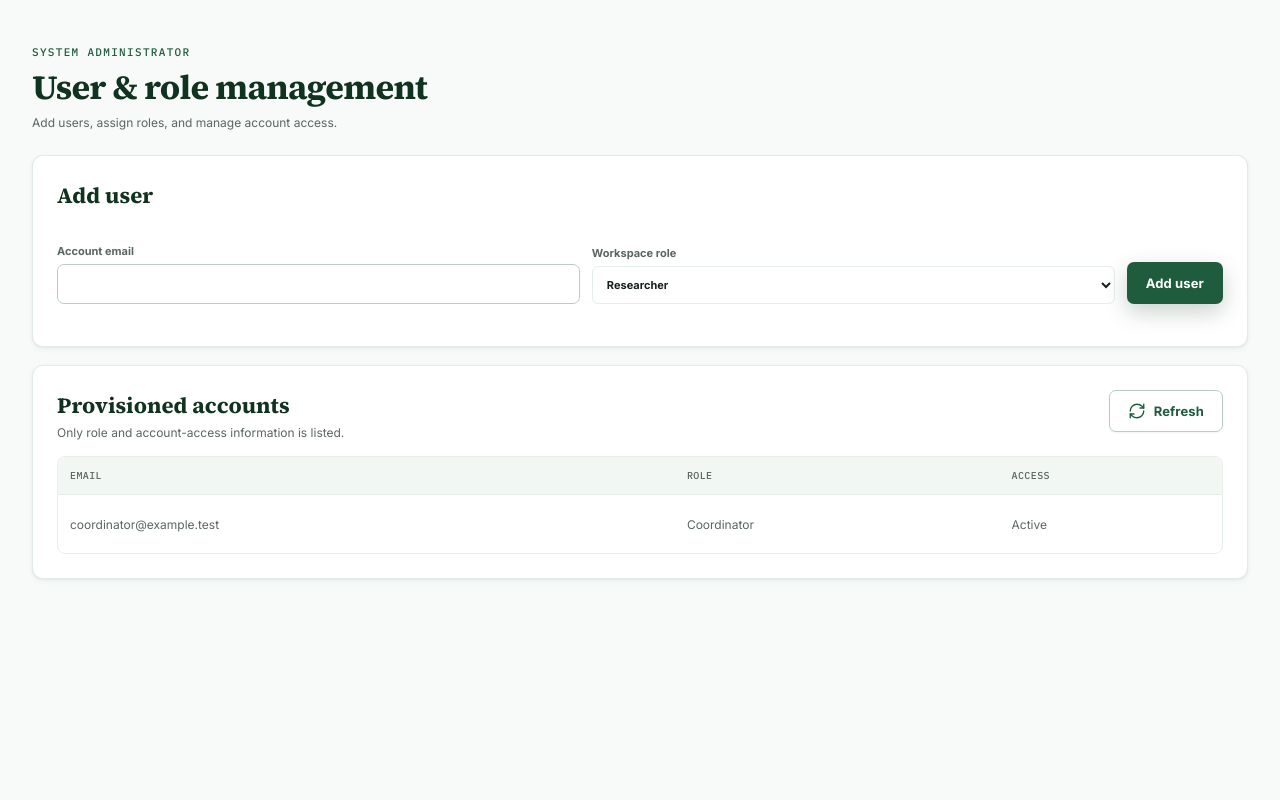
Scenario: administrator sidebar pages › loads provisioned accounts and provisions a selected role
The image size is (1280, 800).
Check: the text "coordinator@example.test" is shown, box [58, 495, 675, 553]
Type "new@example.test" into the field labelled "Account email" at (318,284), box [57, 264, 580, 304]
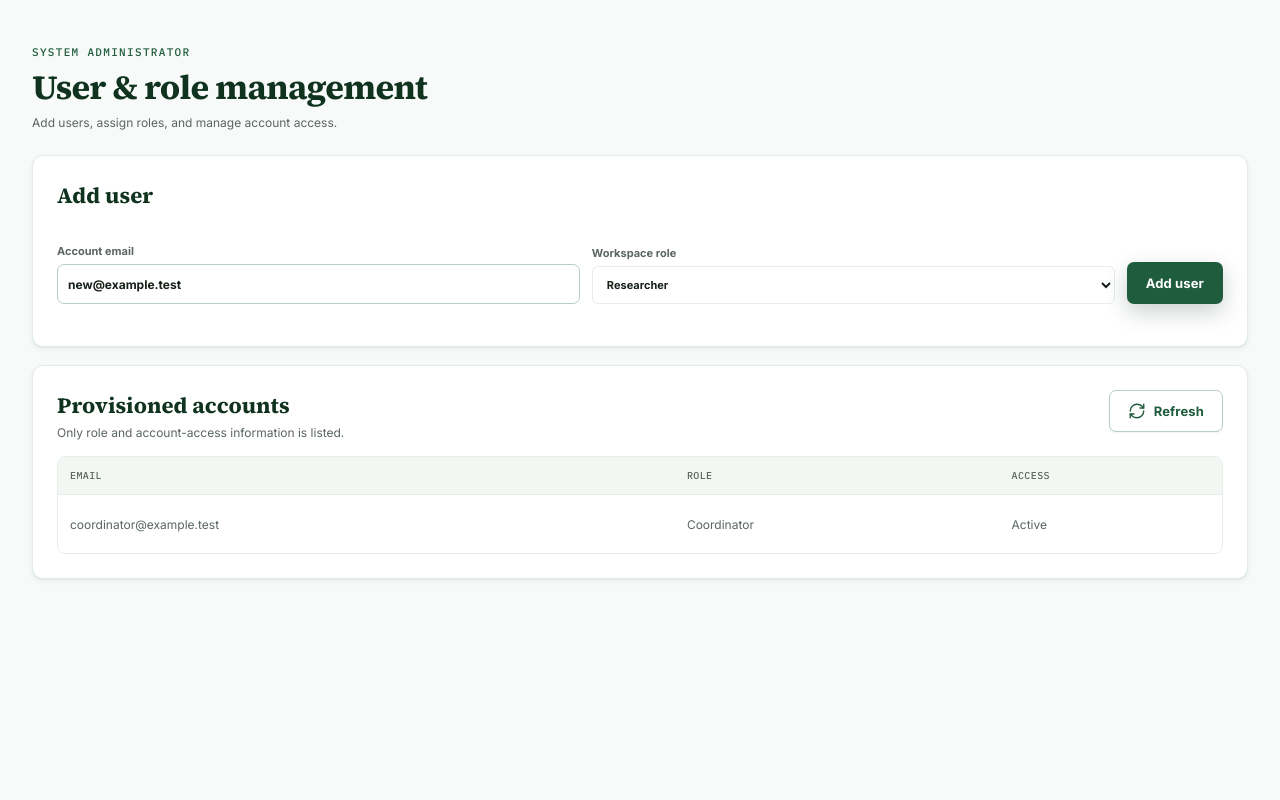
Select "Librarian" in the dropdown labelled "Workspace role" at (853,285), box [592, 266, 1115, 304]
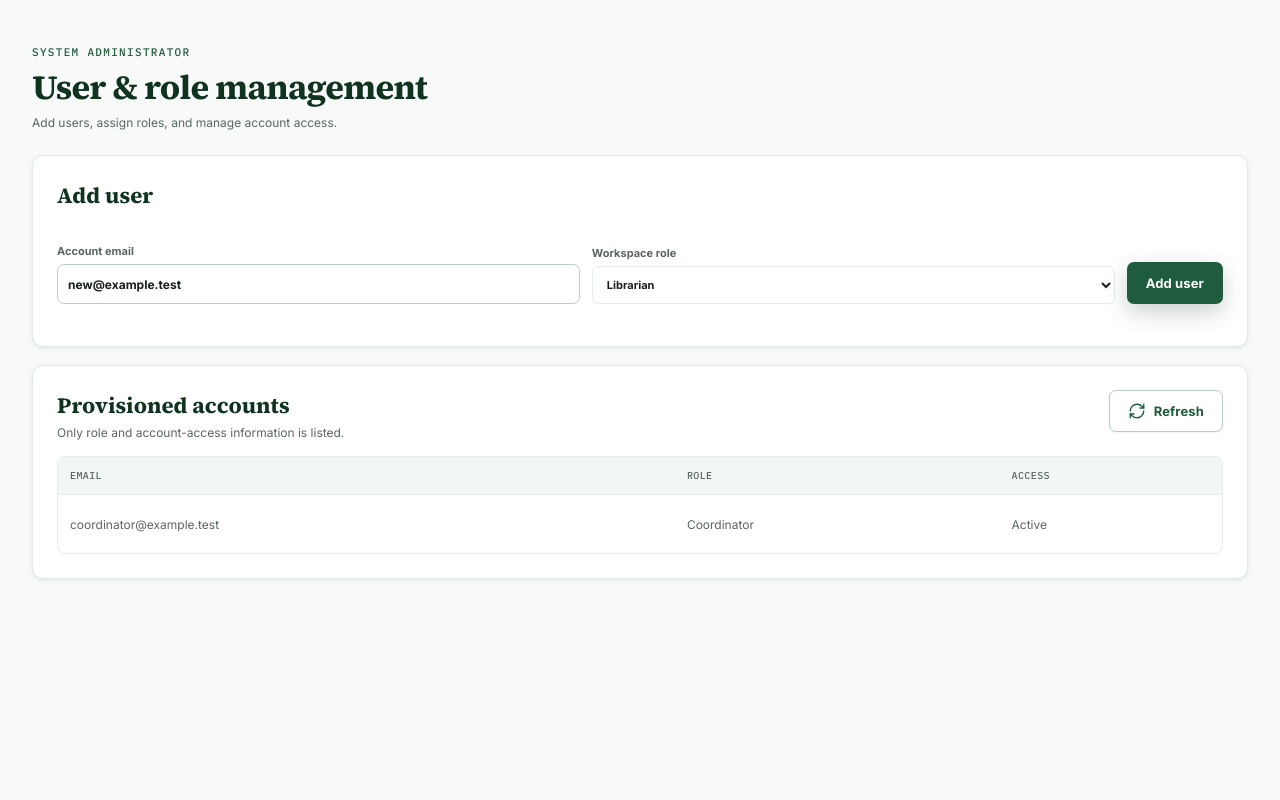
Click the button "Add user" at (1175,283), box [1127, 262, 1223, 304]
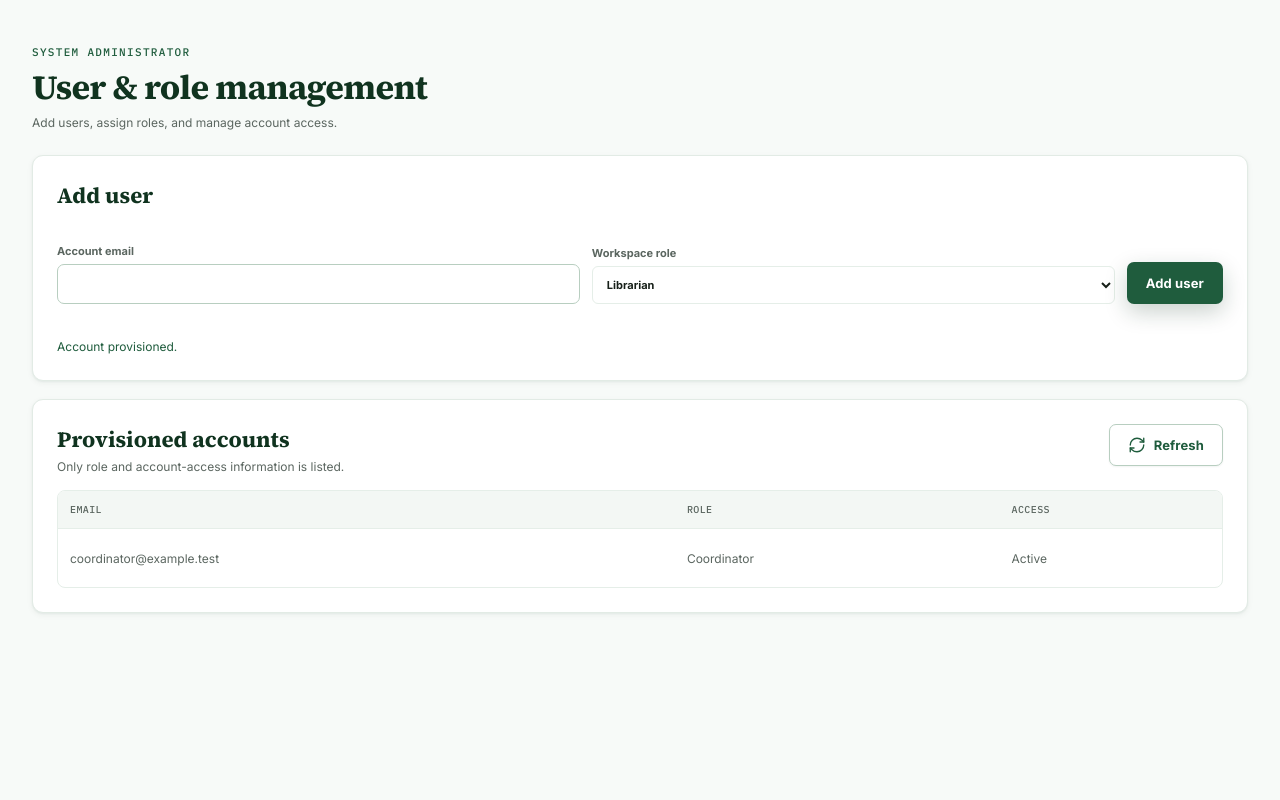
Check: the text "Account provisioned." is shown, box [57, 339, 177, 354]
